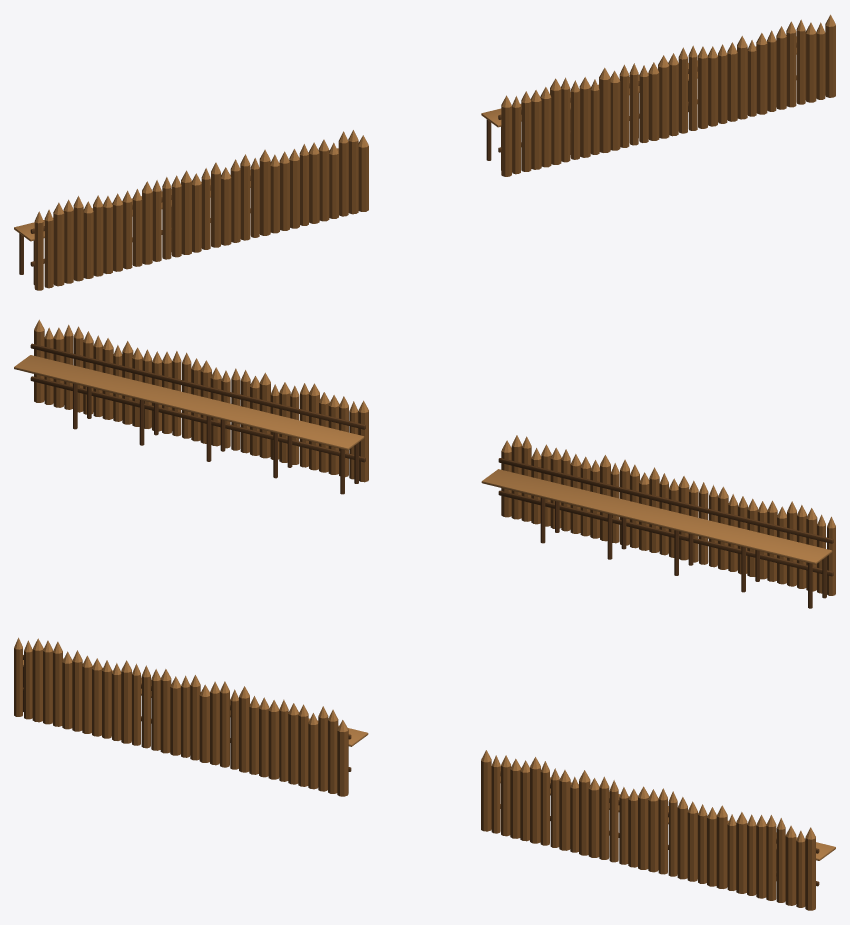
Rendered from mur_front_1.glb.
The picture shows the model from 3 angles, top to bottom: view 1: azimuth 30°, elevation 25°; view 2: azimuth 150°, elevation 25°; view 3: azimuth 330°, elevation 25°; orthographic projection.
Visible parts, largest first — view 1: mur_front_1; view 2: mur_front_1; view 3: mur_front_1.
Boxes of the visible parts, x1,y1,x2,y2 form: mur_front_1: (14,14,835,290); mur_front_1: (14,319,835,608); mur_front_1: (14,637,835,910).
Size of the model in its own units: 36 by 3.63 by 1.83.
